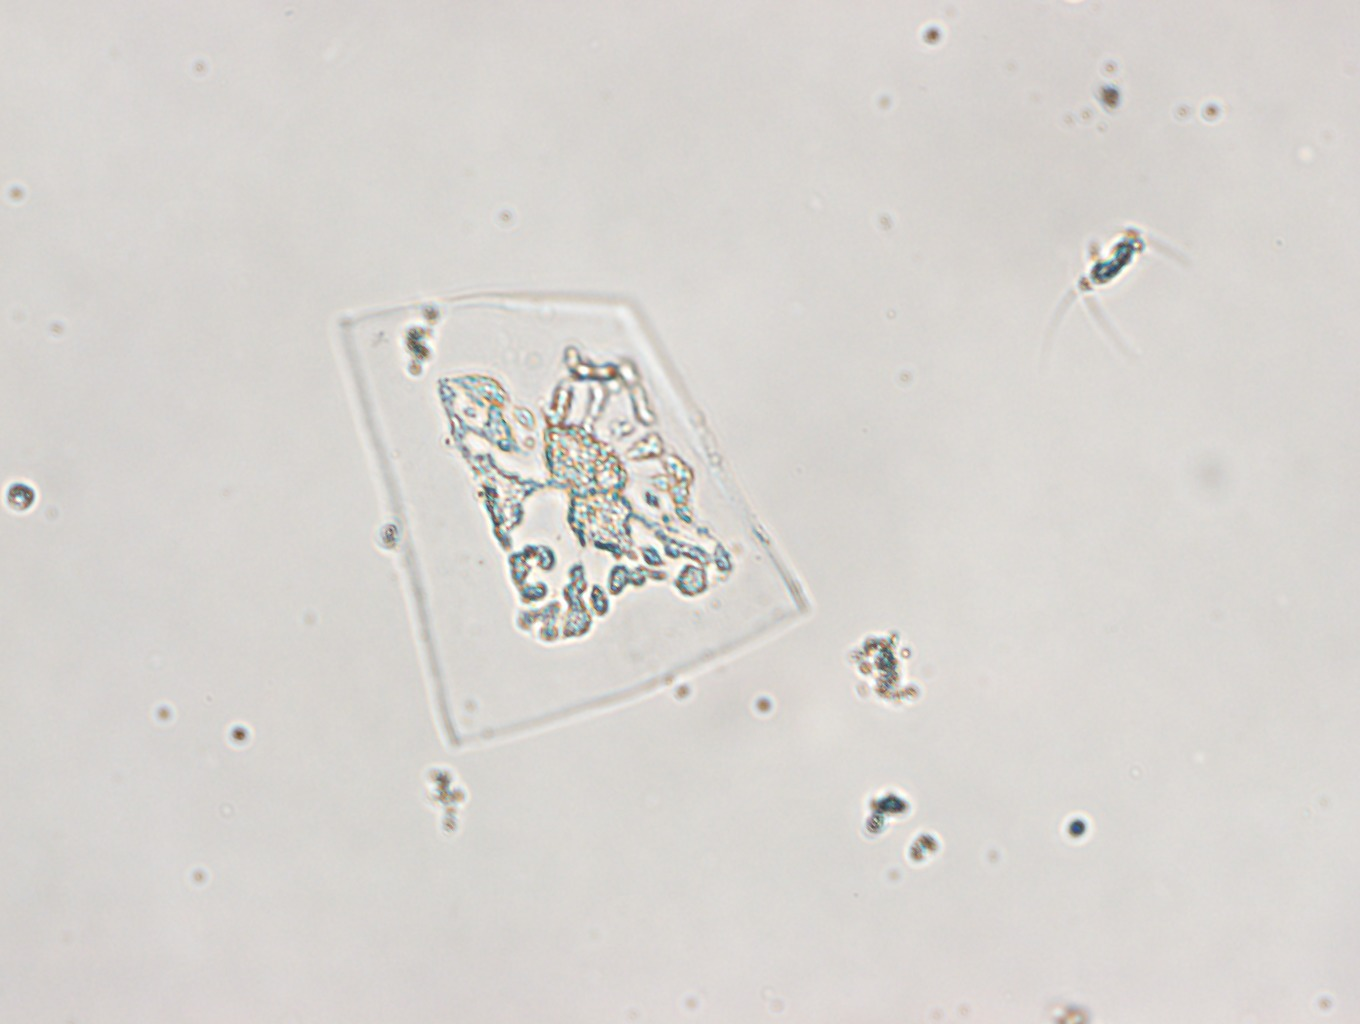chaetoceros: (1036, 221, 1194, 372)
helicotheca: (335, 288, 811, 745)
